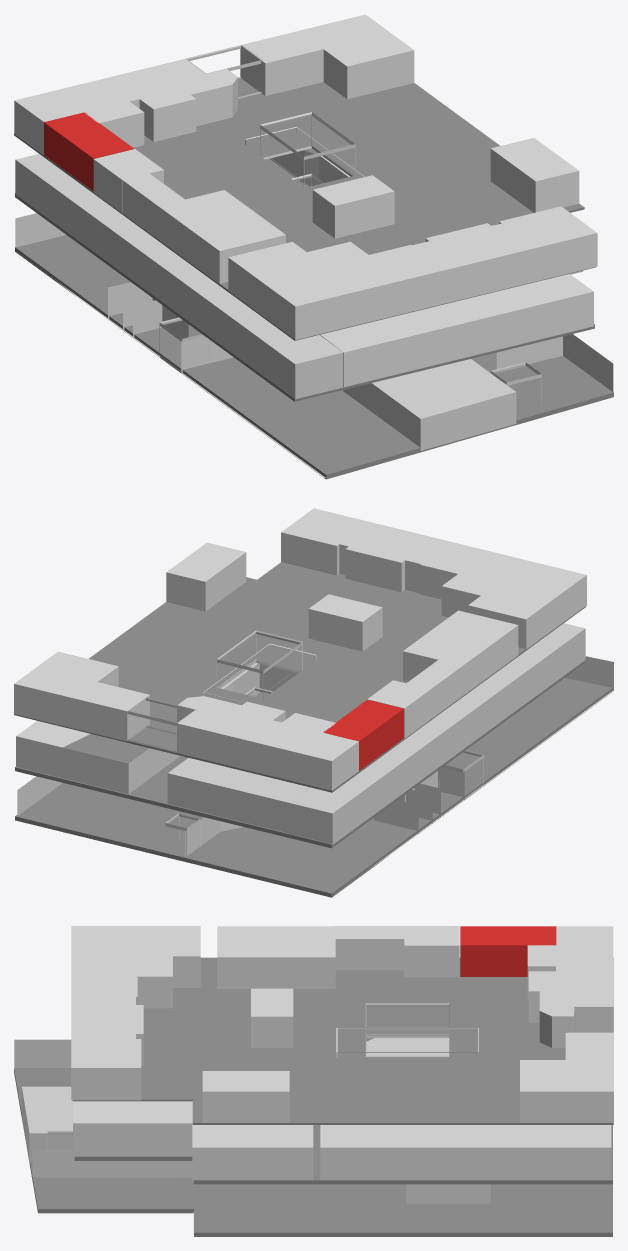
File: Floorfull_v1.0.0.glb
3 renders of one model, top to bottom at view 1: azimuth 30°, elevation 25°; view 2: azimuth 150°, elevation 25°; view 3: azimuth 270°, elevation 25°, orthographic. The views are drawn at different scales.
Visible parts, largest first — view 1: 3F床.002, 1F床.002, イオンホール, 2F内装, 従業員室2, 従業員室, 平面.007, 焼き鳥, ラーメン, トイレ, 従業員室3, うまげな (+19 smaller); view 2: 3F床.002, 1F床.002, イオンホール, 2F内装, 従業員室3, 従業員室, 焼き鳥, 2F床.001, ラーメン, 従業員室2, うまげな, ペッパーランチ (+19 smaller); view 3: 3F床.002, 2F内装, 1F床.002, 焼き鳥, ラーメン, 従業員室2, 従業員室, 従業員室3, うまげな, パーティールーム, 2F床.001, 平面.007 (+16 smaller).
Part boxes in pixels (<box>): 3F床.002: <box>14,78,595,340</box>; 1F床.002: <box>15,235,613,479</box>; イオンホール: <box>15,154,343,399</box>; 2F内装: <box>270,150,593,387</box>; 従業員室2: <box>412,208,597,303</box>; 従業員室: <box>228,242,358,339</box>; 平面.007: <box>342,359,516,450</box>; 焼き鳥: <box>158,190,285,284</box>; ラーメン: <box>299,14,414,99</box>; トイレ: <box>324,245,444,324</box>; 従業員室3: <box>14,58,209,154</box>; うまげな: <box>490,138,579,212</box>; 3F床.002: <box>14,562,586,792</box>; 1F床.002: <box>15,678,612,897</box>; イオンホール: <box>289,623,585,844</box>; 2F内装: <box>16,663,309,833</box>; 従業員室3: <box>177,703,358,790</box>; 従業員室: <box>468,561,586,649</box>; 焼き鳥: <box>403,610,518,694</box>; 2F床.001: <box>15,661,584,848</box>; ラーメン: <box>14,651,118,728</box>; 従業員室2: <box>287,508,452,593</box>; うまげな: <box>166,542,246,611</box>; ペッパーランチ: <box>73,681,149,741</box>; 3F床.002: <box>72,957,613,1124</box>; 2F内装: <box>73,1038,611,1180</box>; 1F床.002: <box>14,1068,612,1236</box>; 焼き鳥: <box>217,926,335,988</box>; ラーメン: <box>520,1060,613,1123</box>; 従業員室2: <box>71,996,135,1100</box>; 従業員室: <box>71,926,200,987</box>; 従業員室3: <box>556,926,613,1032</box>; うまげな: <box>202,1071,289,1122</box>; パーティールーム: <box>460,926,556,976</box>; 2F床.001: <box>74,1038,612,1184</box>; 平面.007: <box>22,1086,72,1163</box>.
Bounding box in the file's own units: 62.68 × 25.75 × 95.93.
